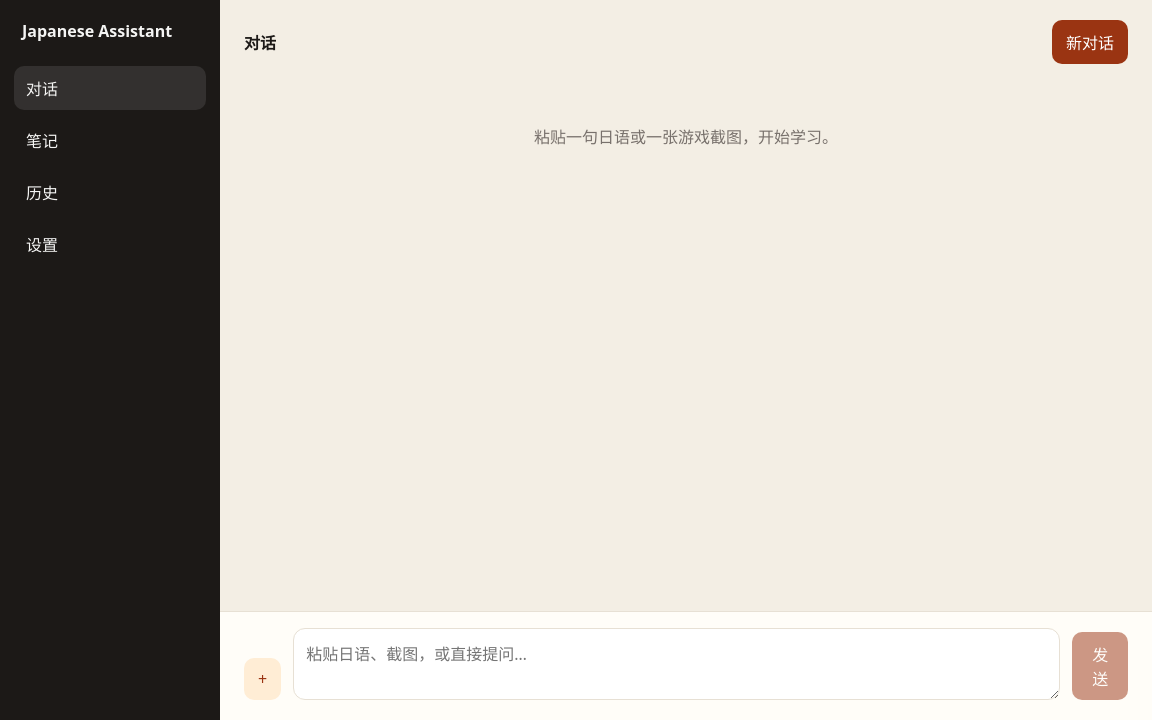
Test: renderer interactions › keeps a failed outgoing message visible with retry
Type "俺に構うな" into the text box named "消息输入" at (677, 664), box top-left (293, 628), bottom-right (1060, 700)
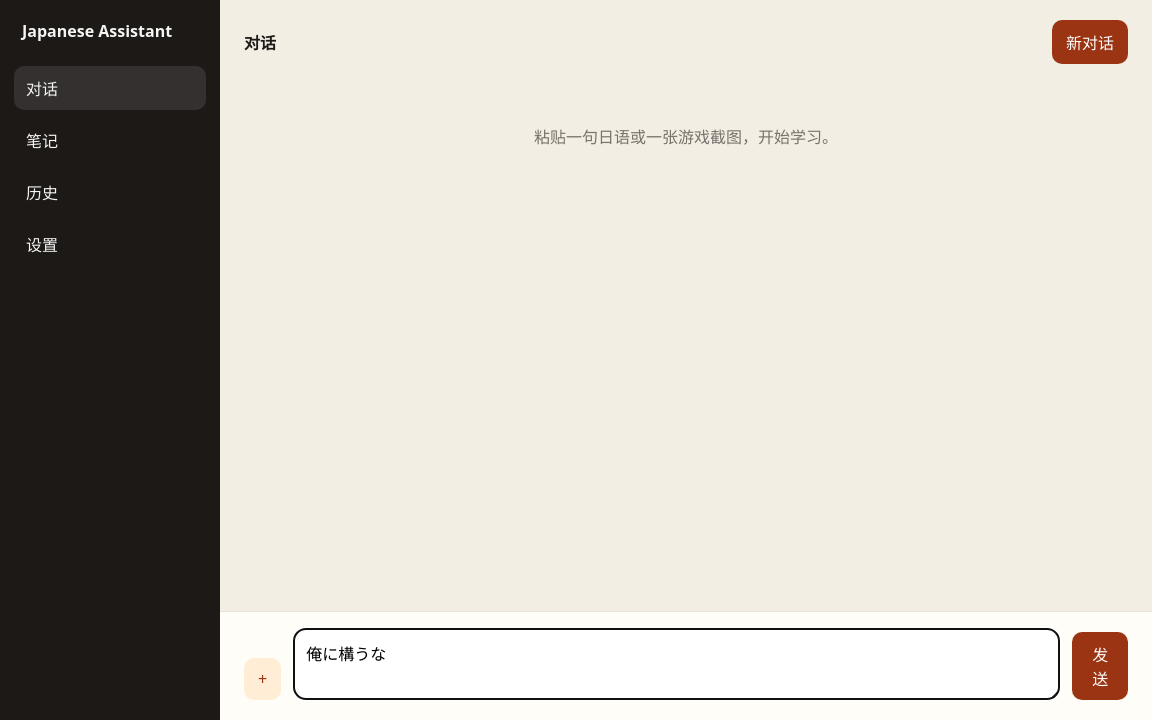
Click the button "发送" at (1100, 666), box top-left (1072, 632), bottom-right (1128, 700)
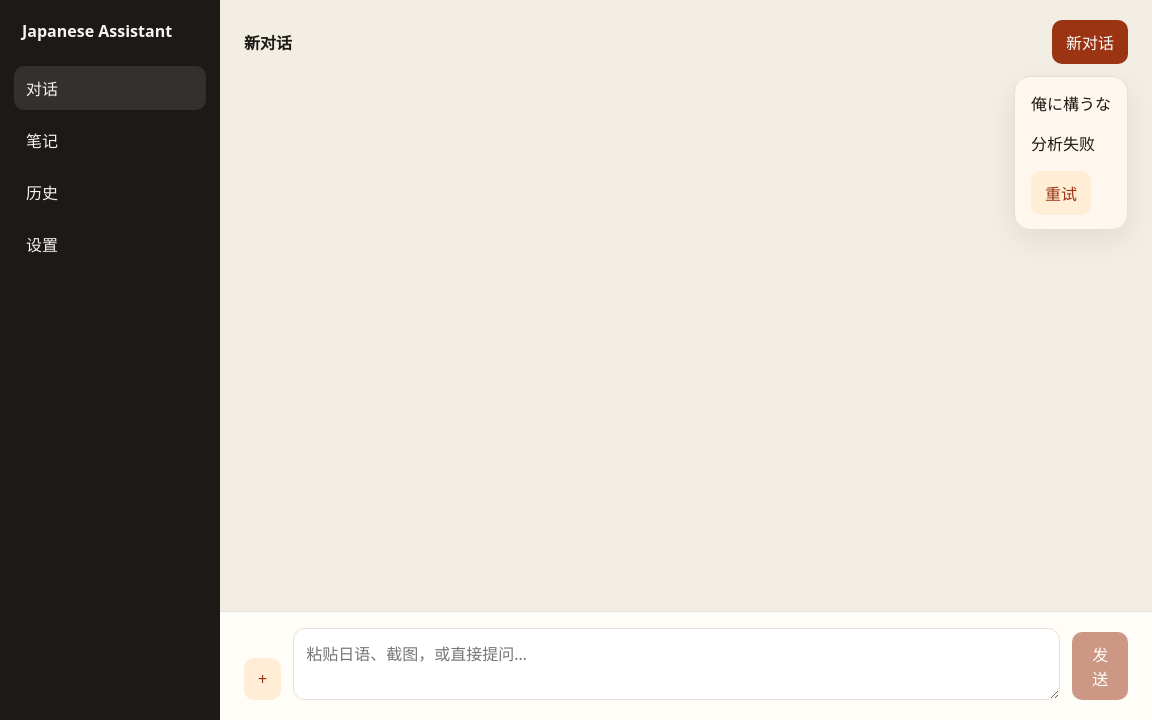
Expected: the text "俺に構うな" is shown, top-left (1031, 91), bottom-right (1111, 115)
Expected: the text "分析失败" is shown, top-left (1031, 133), bottom-right (1095, 155)
Expected: the button "重试" is shown, top-left (1031, 171), bottom-right (1091, 215)
